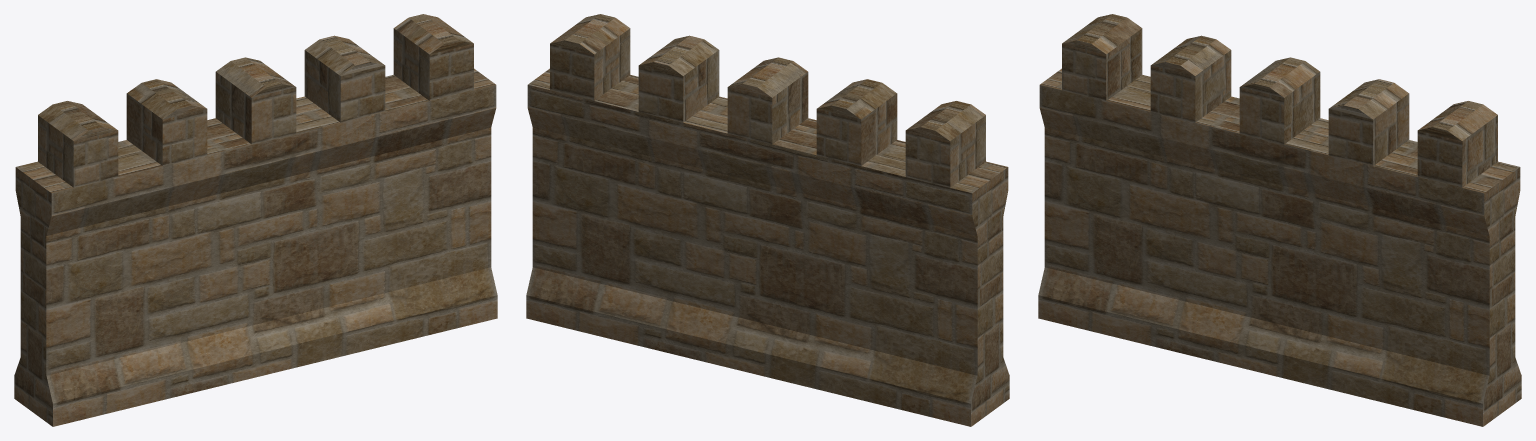
Rendered from newWall.obj.
3 renders of one model, left to right at view 1: azimuth 30°, elevation 25°; view 2: azimuth 150°, elevation 25°; view 3: azimuth 330°, elevation 25°, orthographic.
Visible parts, largest first — view 1: Plane_Plane.001; view 2: Plane_Plane.001; view 3: Plane_Plane.001.
Boxes of the visible parts, <box> form: Plane_Plane.001: <box>14,14,497,426</box>; Plane_Plane.001: <box>526,14,1009,426</box>; Plane_Plane.001: <box>1038,14,1521,426</box>.
Size of the model in its own units: 20 by 12.3 by 3.
Materials: 1 (1 with a texture image).
